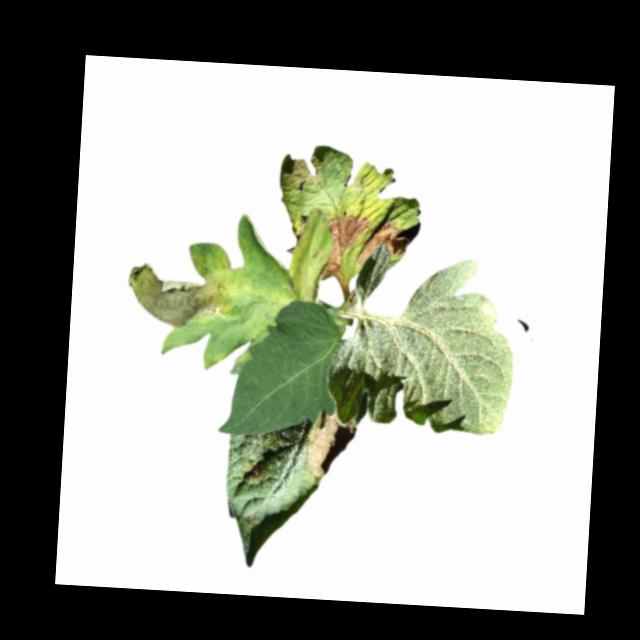Late_blight: (125, 260, 233, 333), (286, 209, 371, 282), (304, 415, 359, 487), (354, 220, 407, 267), (246, 461, 267, 481)
healthy: (324, 251, 519, 437), (217, 293, 345, 443)
